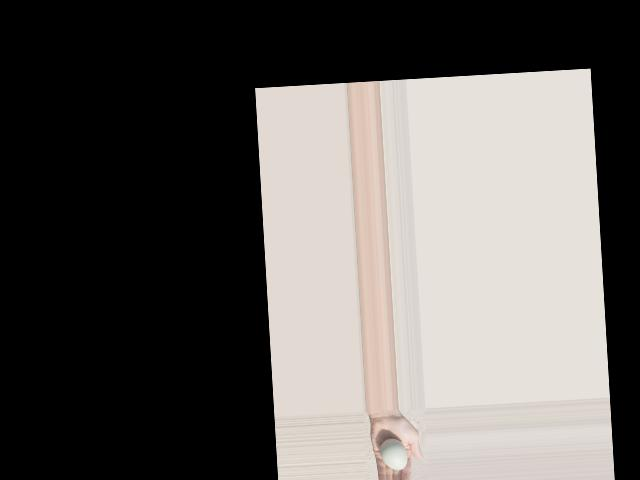egg: (379, 438, 407, 470)
